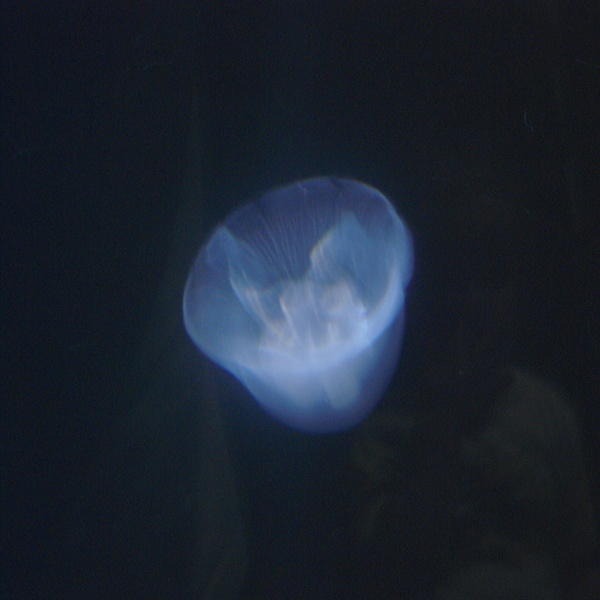Jellyfish: (180, 163, 414, 429)
